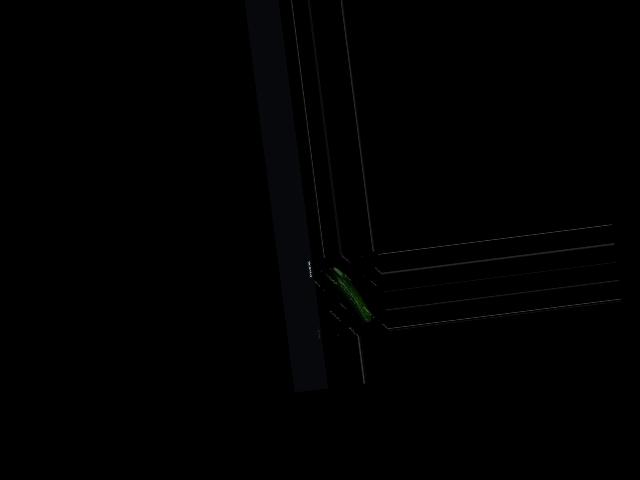cucumber: (326, 262, 372, 328)
